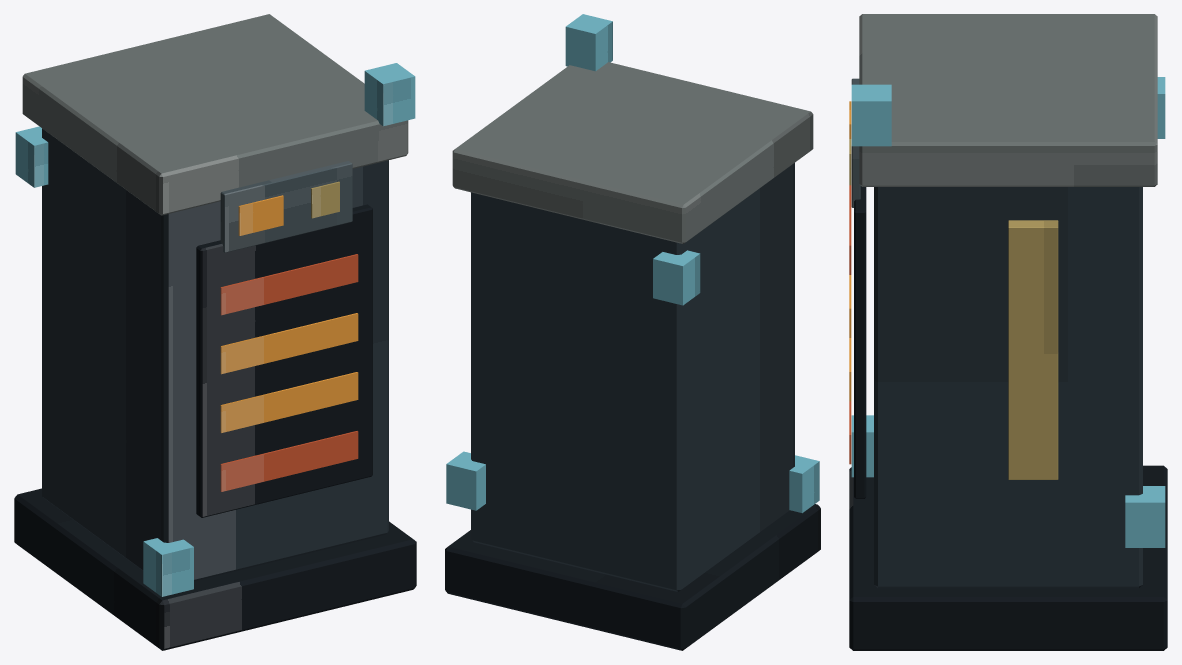
The model's file is heater_station.glb.
3 views of the same model, side by side, from view 1: azimuth 30°, elevation 25°; view 2: azimuth 150°, elevation 25°; view 3: azimuth 270°, elevation 25° (orthographic). The views are drawn at different scales.
Visible parts, largest first — view 1: HeaterBody, HeaterTop, HeatRecess, HeaterBase, ControlPanel, HeatBar_3, HeatBar_2, HeatBar_4, HeatBar_1, FrostBlock_4, FrostBlock_1, FrostBlock_3 (+2 smaller); view 2: HeaterBody, HeaterTop, HeaterBase, FrostBlock_4, FrostBlock_3, FrostBlock_2, FrostBlock_1; view 3: HeaterBody, HeaterTop, HeaterBase, SidePipe, HeatRecess, FrostBlock_4, FrostBlock_2, FrostBlock_1, ControlPanel, FrostBlock_3.
Part boxes in pixels (x1,y1,x2,y2): HeaterBody: (42, 128, 388, 581); HeaterTop: (22, 14, 408, 215); HeatRecess: (196, 204, 372, 517); HeaterBase: (14, 488, 416, 650); ControlPanel: (220, 161, 352, 252); HeatBar_3: (220, 313, 358, 374); HeatBar_2: (220, 372, 358, 432); HeatBar_4: (220, 254, 358, 315); HeatBar_1: (220, 431, 358, 491); FrostBlock_4: (364, 63, 415, 126); FrostBlock_1: (143, 538, 193, 596); FrostBlock_3: (15, 126, 48, 187); HeaterBody: (471, 163, 794, 591); HeaterTop: (452, 62, 813, 243); HeaterBase: (445, 504, 820, 650); FrostBlock_4: (565, 14, 612, 71); FrostBlock_3: (653, 250, 700, 305); FrostBlock_2: (446, 451, 485, 510); FrostBlock_1: (789, 455, 819, 513); HeaterBody: (874, 187, 1142, 588); HeaterTop: (859, 14, 1157, 186); HeaterBase: (849, 465, 1167, 650); SidePipe: (1008, 220, 1058, 479); HeatRecess: (854, 186, 866, 498); FrostBlock_4: (851, 84, 891, 146); FrostBlock_2: (1125, 486, 1165, 547); FrostBlock_1: (851, 415, 873, 477); ControlPanel: (851, 78, 860, 207); FrostBlock_3: (1157, 77, 1165, 138).
Bounding box in the file's own units: 0.64 × 1.22 × 0.64.
1 material, 1 textured.
